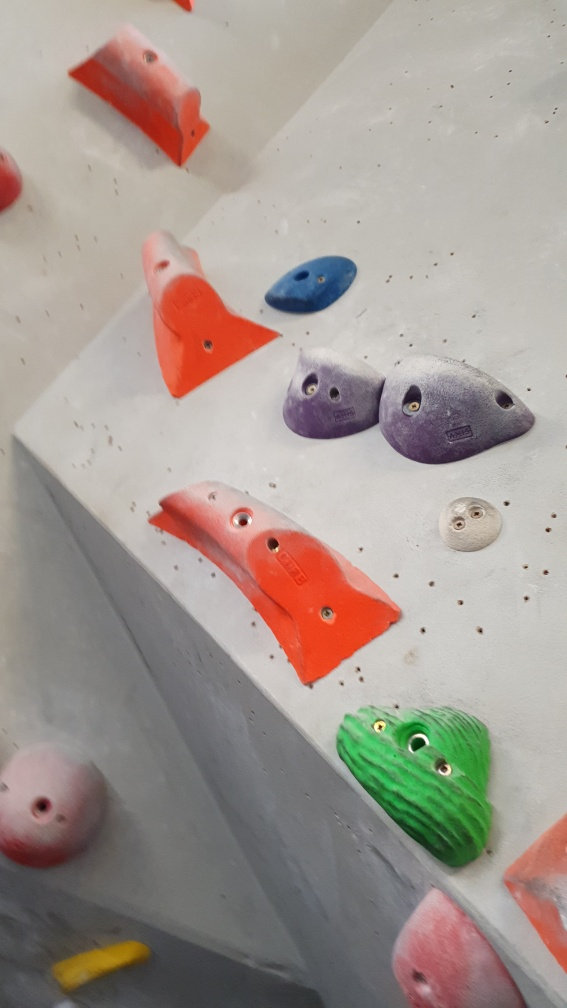Jug: (336, 698, 498, 868), (377, 349, 538, 468), (278, 340, 385, 440)
Pinch: (150, 478, 405, 685), (139, 225, 280, 401), (66, 21, 215, 169)
Sloper: (385, 885, 525, 1005), (1, 742, 113, 875)
